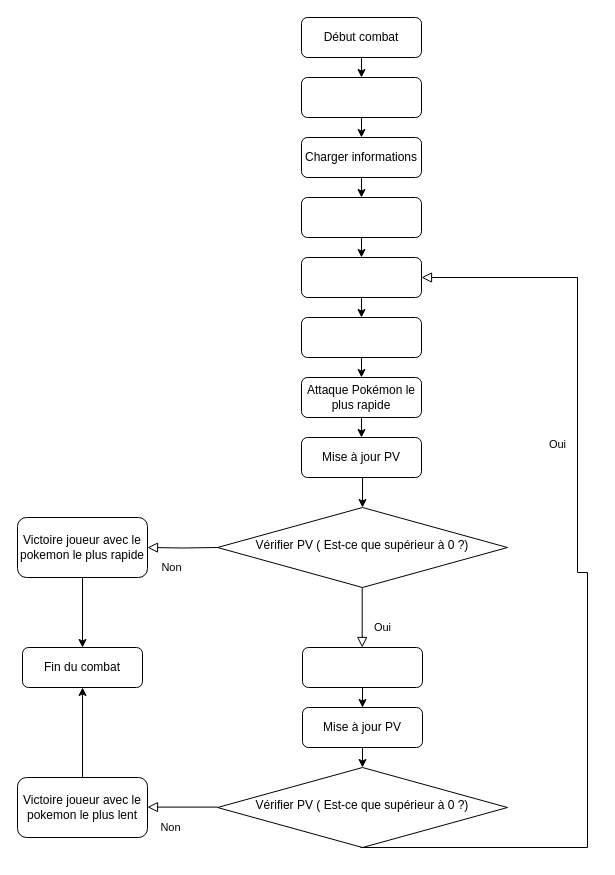
Image size: 615x875. Some labels were removed from this diagram. The shapes that lost their labels are listed below. From the top down, each one's centre as x and y in pixels, then its label:
the point at 361,97: Choisir Pokémon
the point at 361,217: Affichage interface
the point at 361,277: Joueurs choisissent attaques
the point at 361,337: Comparaison vitesses
the point at 362,667: Attaque Pokémon le plus lent
